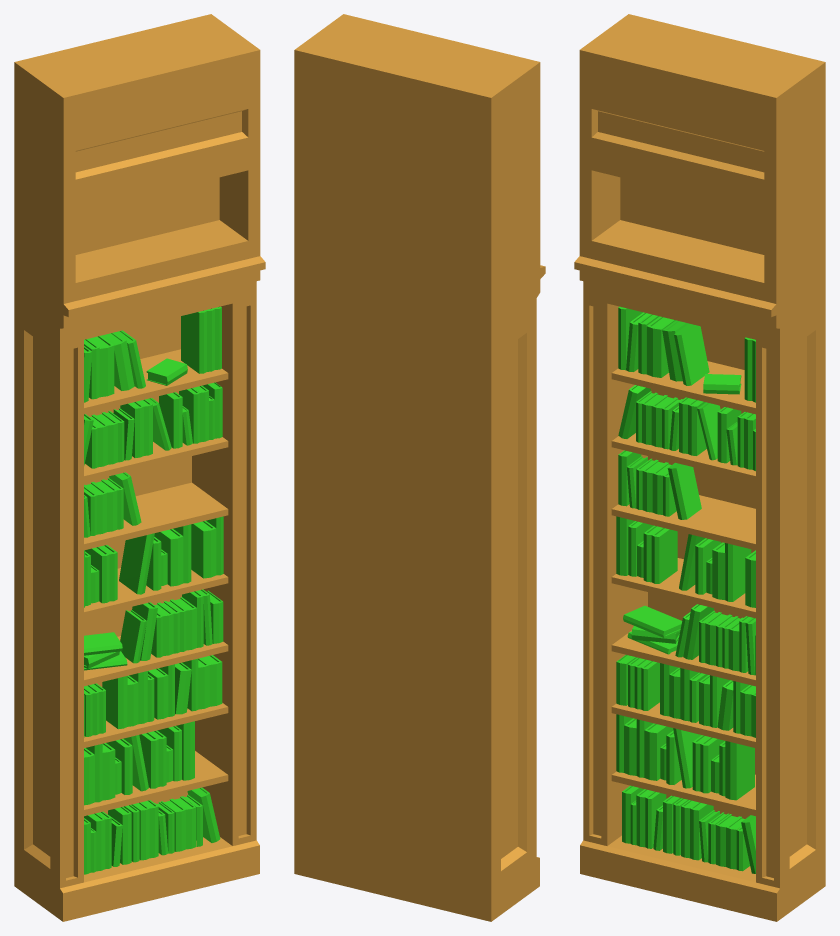
Rendered from Sm_Bookcase_Tall_Modular_Filled_1m_B.fbx.
The picture shows the model from 3 angles, left to right: view 1: azimuth 30°, elevation 25°; view 2: azimuth 150°, elevation 25°; view 3: azimuth 330°, elevation 25°; orthographic projection.
Visible parts, largest first — view 1: bookcase-tall-modular-filled-1m-b; view 2: bookcase-tall-modular-filled-1m-b; view 3: bookcase-tall-modular-filled-1m-b.
Part boxes in pixels (bbox=[...]): bookcase-tall-modular-filled-1m-b: bbox=[14, 14, 265, 921]; bookcase-tall-modular-filled-1m-b: bbox=[294, 14, 545, 921]; bookcase-tall-modular-filled-1m-b: bbox=[574, 14, 825, 921].
Size of the model in its own units: 1 by 4 by 0.4778.
